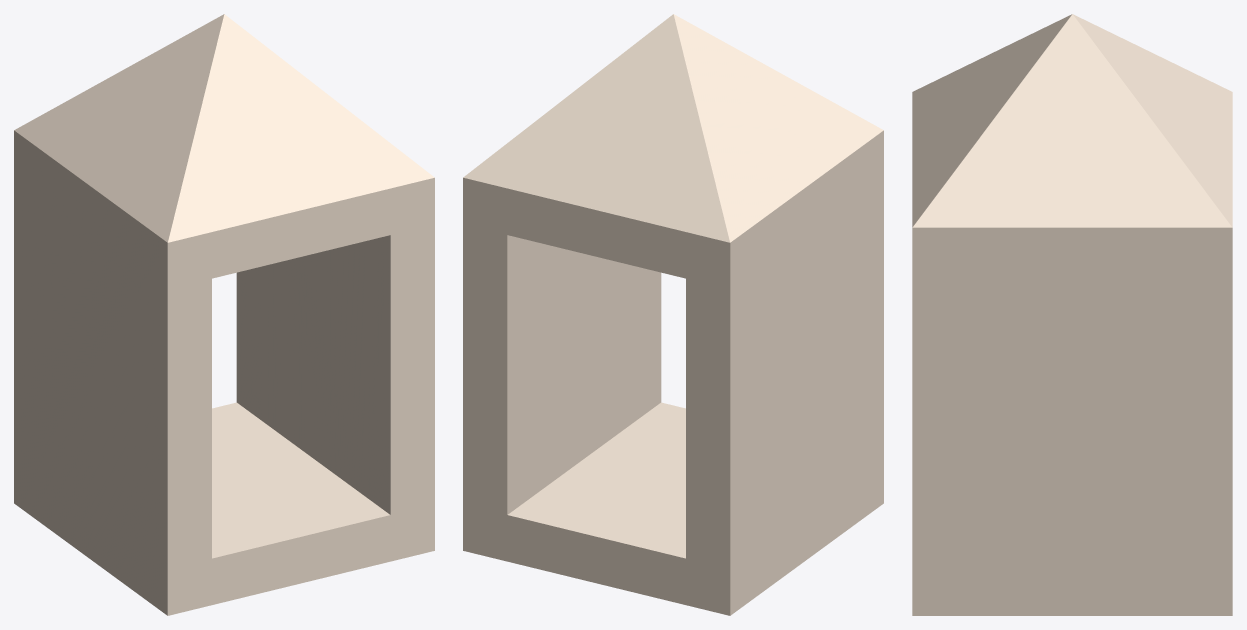
The model's file is hut2.fbx.
3 renders of one model, left to right at view 1: azimuth 30°, elevation 25°; view 2: azimuth 150°, elevation 25°; view 3: azimuth 270°, elevation 25°, orthographic. The views are drawn at different scales.
Visible parts, largest first — view 1: Cube.003, Cube.002, Cube.007, Cube.001, Cube.006; view 2: Cube.003, Cube.002, Cube.004, Cube.001, Cube.006; view 3: Cube.002, Cube.005, Cube.007, Cube.004.
Boxes of the visible parts, box(x1,y1,x2,y2) form: Cube.003: box(14, 130, 211, 615); Cube.002: box(236, 224, 434, 514); Cube.007: box(167, 14, 434, 289); Cube.001: box(167, 402, 434, 615); Cube.006: box(14, 14, 224, 242); Cube.003: box(686, 130, 883, 615); Cube.002: box(463, 224, 661, 514); Cube.004: box(463, 14, 730, 289); Cube.001: box(463, 402, 730, 615); Cube.006: box(673, 14, 883, 242); Cube.002: box(912, 227, 1232, 615); Cube.005: box(912, 14, 1232, 227); Cube.007: box(912, 14, 1071, 227); Cube.004: box(1073, 14, 1232, 227).
Bounding box in the file's own units: 599 × 1099 × 597.
